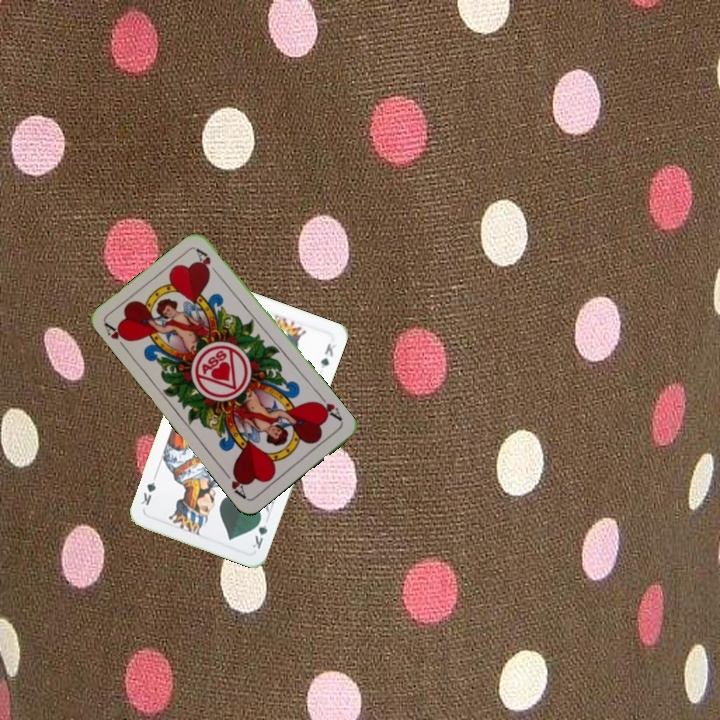GK: (248, 512, 271, 552)
HA: (312, 390, 345, 424), (100, 319, 132, 354)
